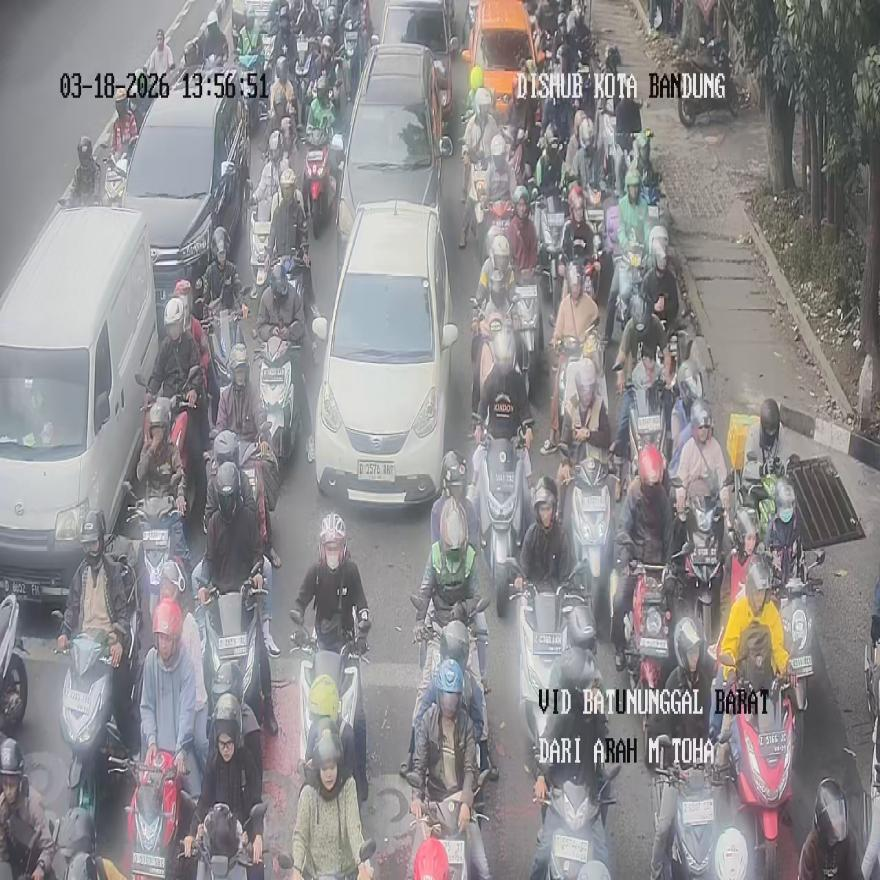Motor: (0, 204, 159, 603), (310, 200, 458, 506), (118, 75, 250, 331), (338, 43, 452, 228), (376, 0, 458, 139), (461, 0, 540, 134)
Truk: (53, 551, 139, 834), (712, 650, 797, 878), (407, 592, 491, 787), (290, 610, 368, 803), (520, 561, 591, 763), (192, 558, 272, 734), (108, 739, 197, 880), (620, 560, 679, 770), (472, 422, 532, 616), (774, 548, 824, 765), (649, 733, 716, 880), (536, 764, 618, 880), (674, 491, 725, 666), (566, 446, 614, 631), (126, 484, 189, 623), (470, 297, 523, 440), (408, 794, 485, 880), (550, 326, 600, 448), (194, 799, 266, 880), (167, 388, 206, 536), (256, 336, 296, 480), (677, 38, 739, 126), (55, 805, 127, 879), (239, 440, 279, 568), (0, 592, 30, 734), (207, 288, 247, 392), (276, 838, 375, 880), (303, 133, 342, 237), (536, 196, 567, 322), (510, 272, 538, 400), (611, 240, 645, 340), (237, 49, 268, 137), (249, 183, 274, 292), (484, 198, 512, 269), (343, 21, 360, 101), (262, 27, 278, 93)
